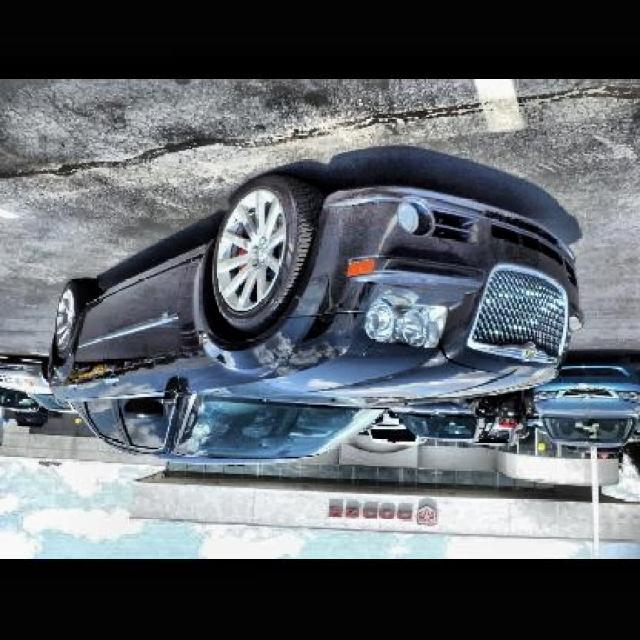black: (61, 176, 550, 480)
